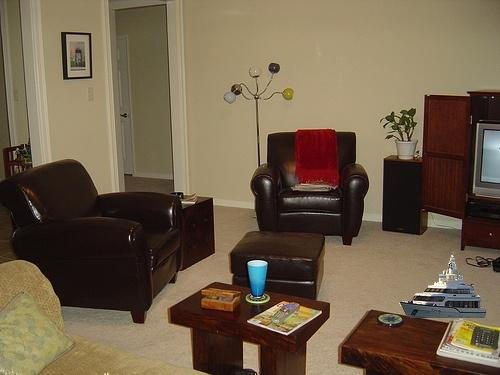tampered: (400, 253, 486, 318)
